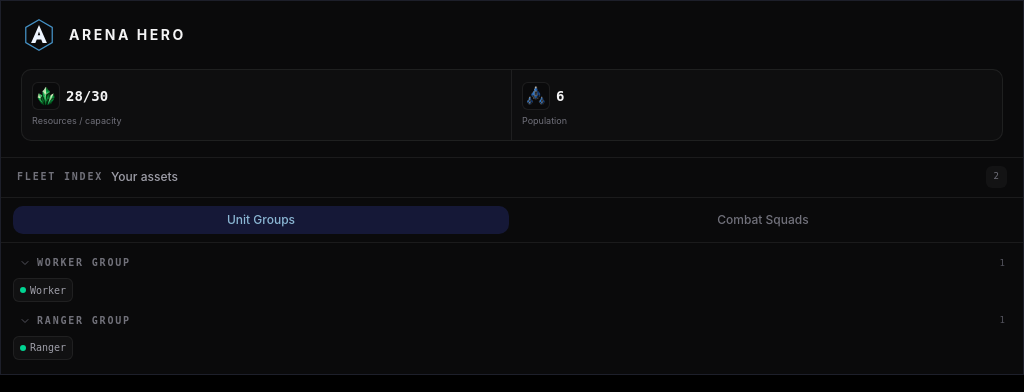
it: AssetList › collapses and expands a squad when its header is clicked without affecting other squads
This screenshot has width=1024, height=392.
Check: the button titled "Worker · (1, 0) · HP 2/2" is shown, box [13, 278, 73, 302]
Click the button "Worker Group 1".
click(84, 263)  # box [9, 250, 1015, 276]
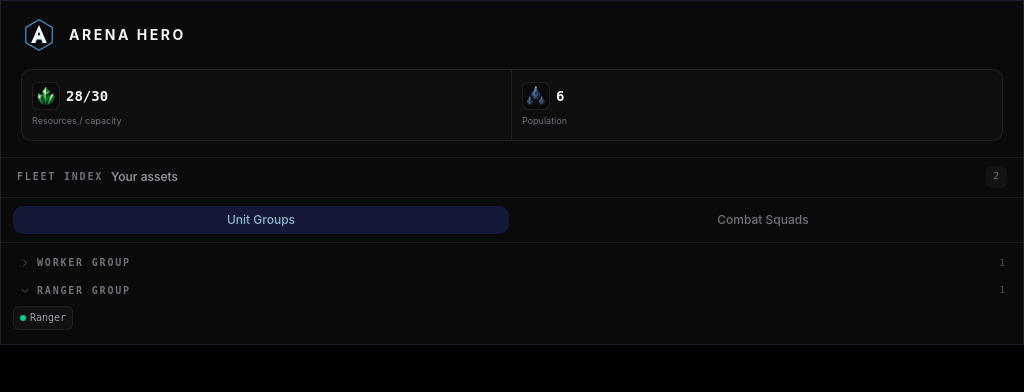
Check: the button titled "Ranger · (2, 0) · HP 3/2" is shown, box [13, 306, 73, 330]
Check: the button "Worker Group 1" is collapsed
Click the button "Worker Group 1".
click(84, 263)  # box [9, 250, 1015, 276]
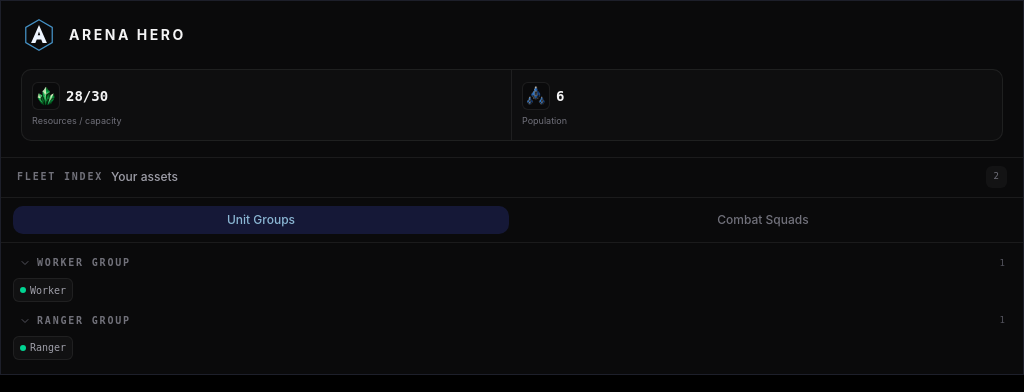
Check: the button "Worker Group 1" is expanded, box [9, 250, 1015, 276]
Check: the button titled "Worker · (1, 0) · HP 2/2" is shown, box [13, 278, 73, 302]
